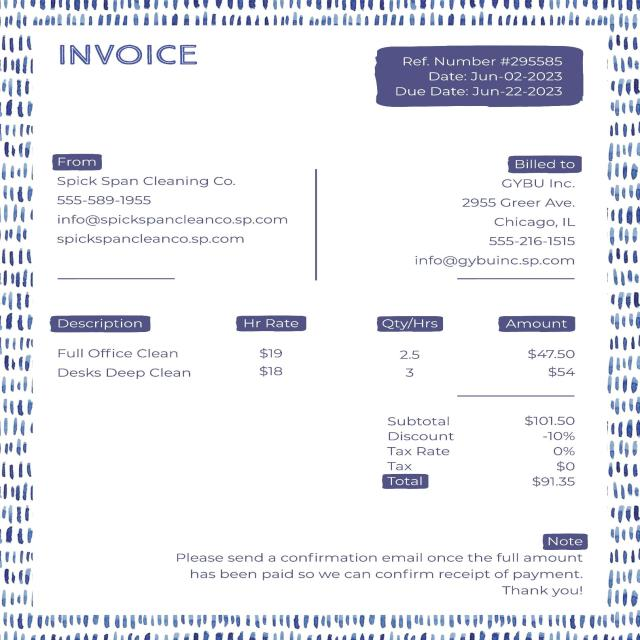paragraph: (168, 528, 592, 600), (36, 144, 294, 253), (403, 150, 606, 274), (371, 410, 595, 500), (376, 46, 583, 109), (49, 40, 211, 69)
table: (44, 304, 594, 388)
